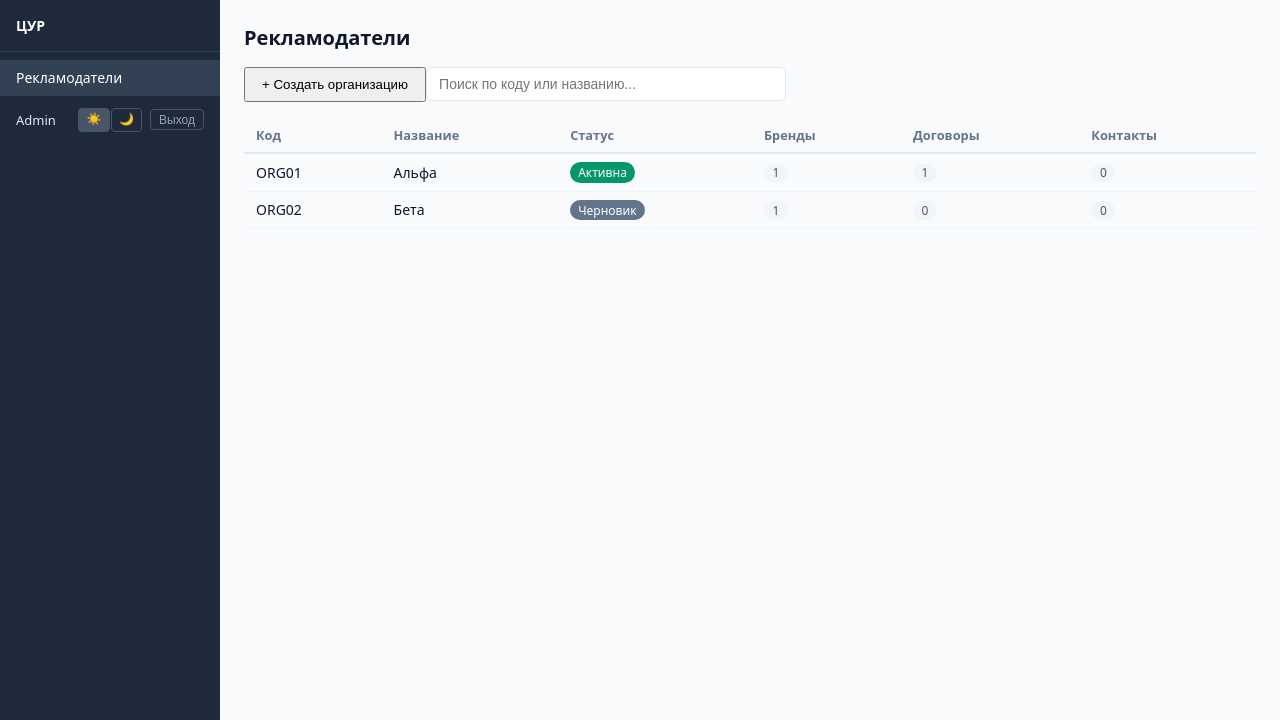
Test: AdvertisersPage › shows detail tabs when org is clicked
The width and height of the screenshot is (1280, 720).
Click the text "Альфа": (470, 172) [382, 153, 558, 191]
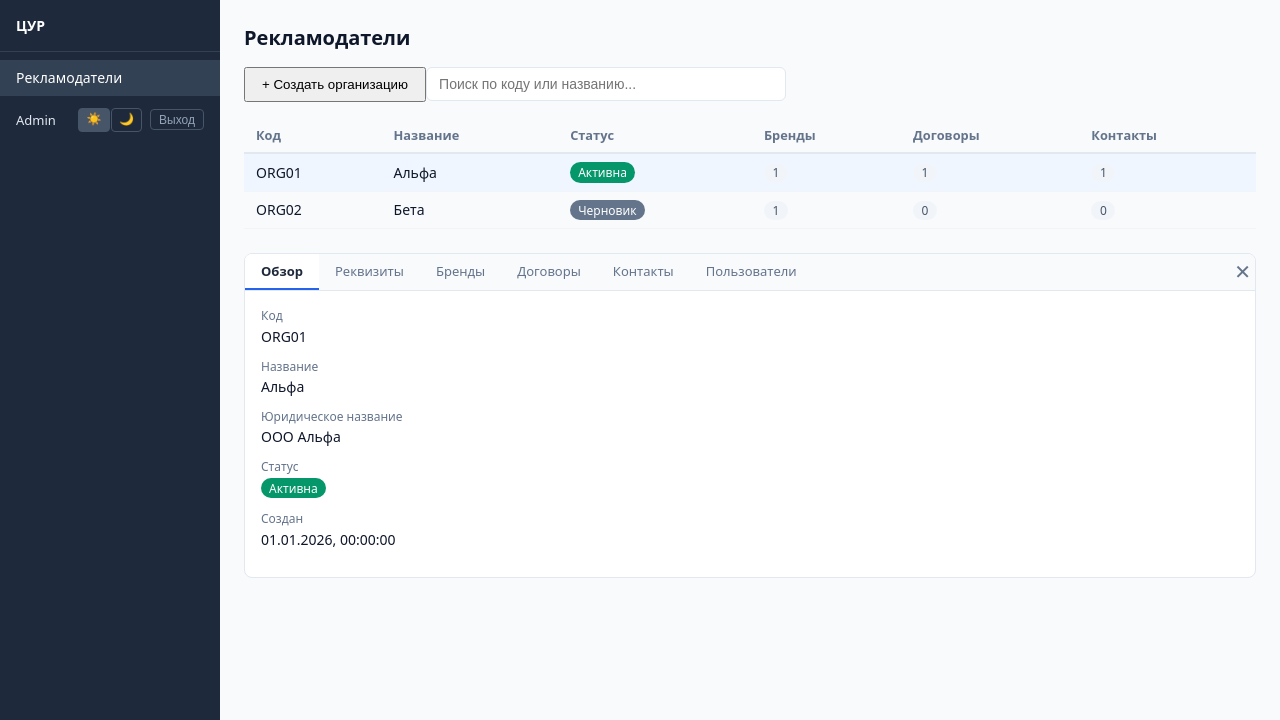
Check: the text "ООО Альфа" is shown, box [261, 427, 341, 446]
